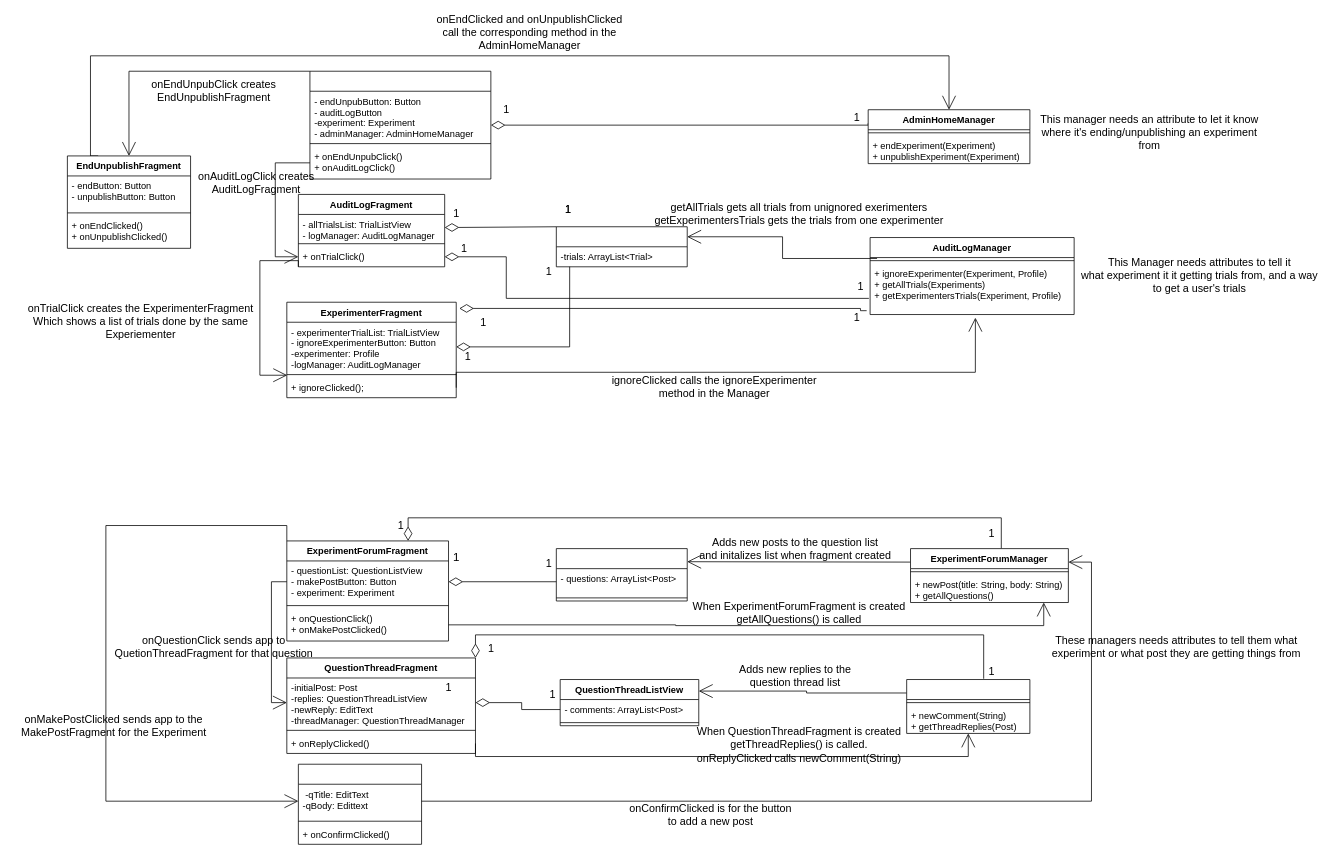
The diagram is 1335 pixels wide and 859 high, and some of its shapes have lost their labels. Each missing label, with the box of its shape:
AdminHomeFragment: (309, 70, 491, 179)
MakePostFragment: (298, 763, 422, 844)
QuestionListView: (556, 548, 687, 601)
QuestionThreadManager: (906, 679, 1030, 733)
TrialListView: (556, 226, 687, 267)
